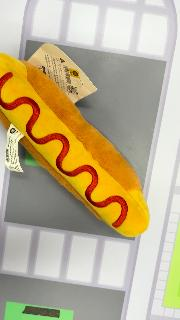hotdog: (0, 52, 150, 240)
